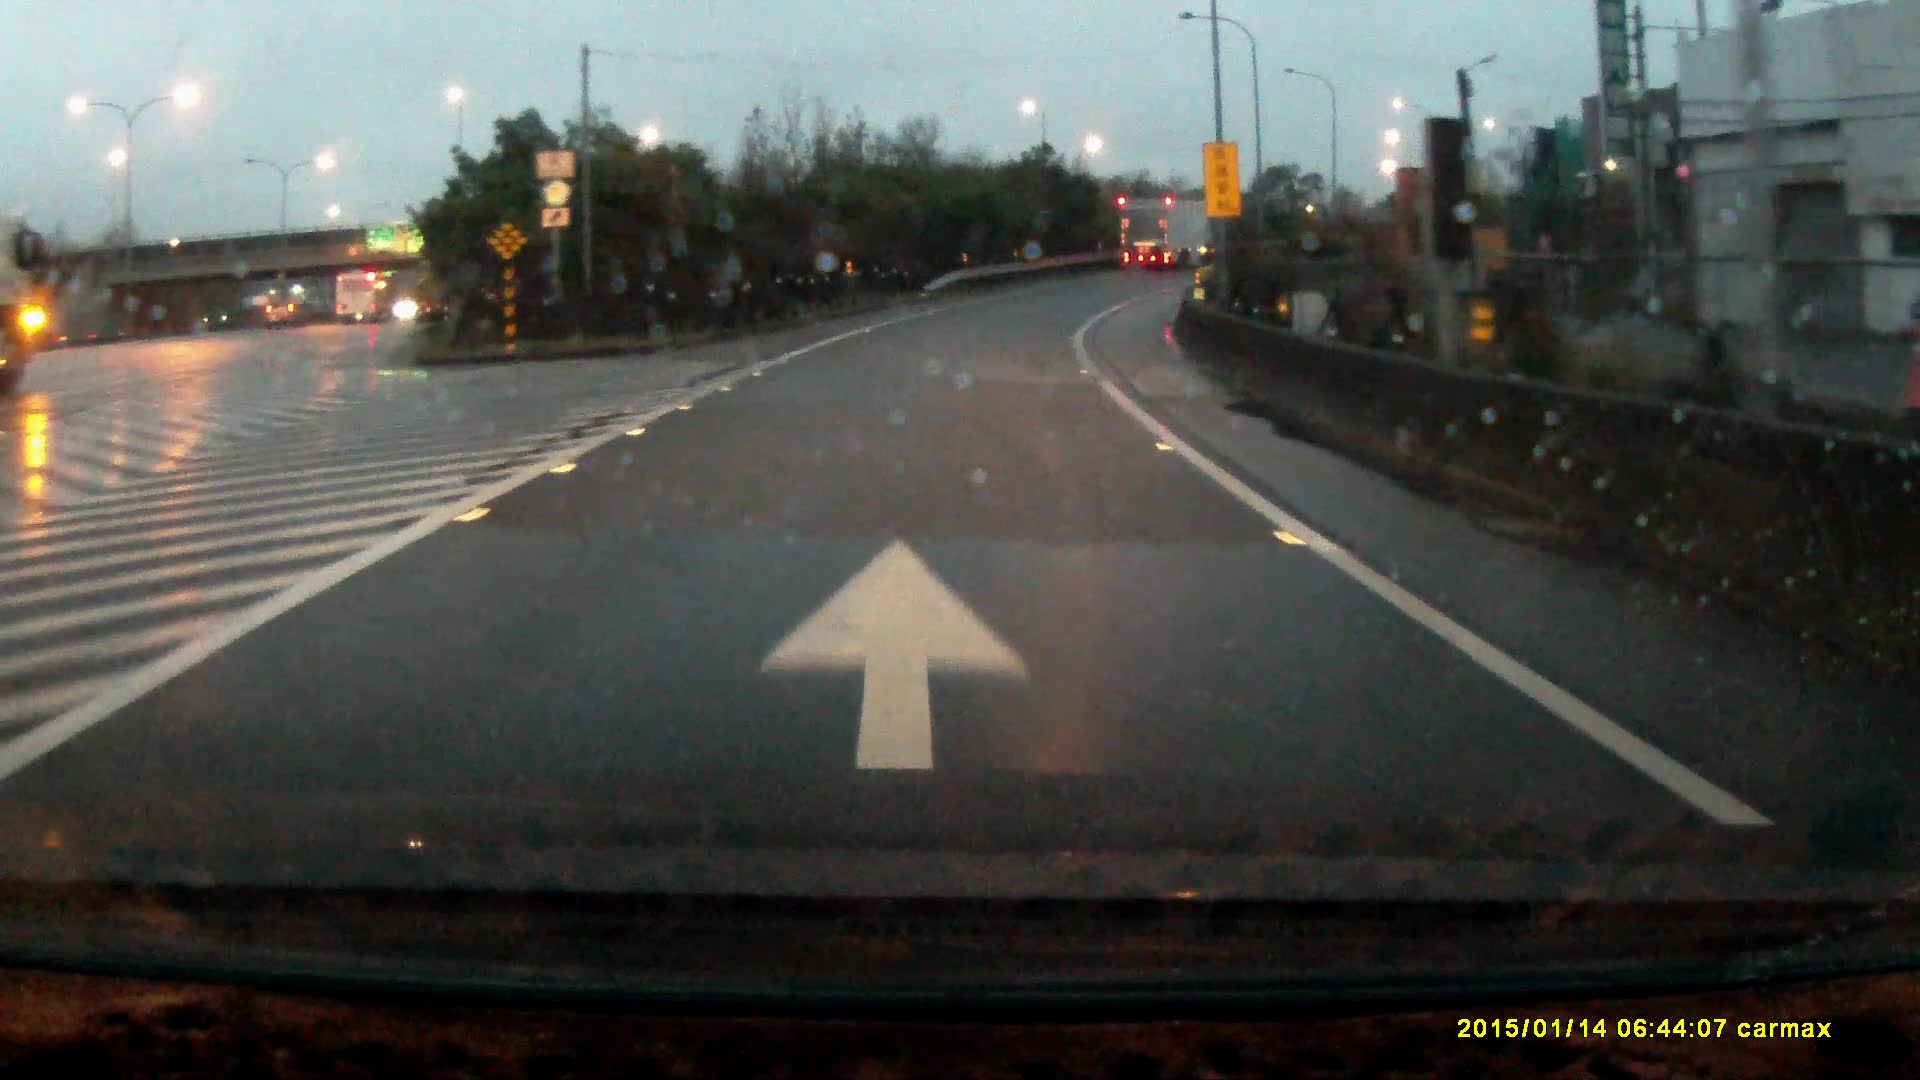vehicle: (1117, 199, 1218, 276), (334, 273, 393, 328), (266, 301, 301, 331)
